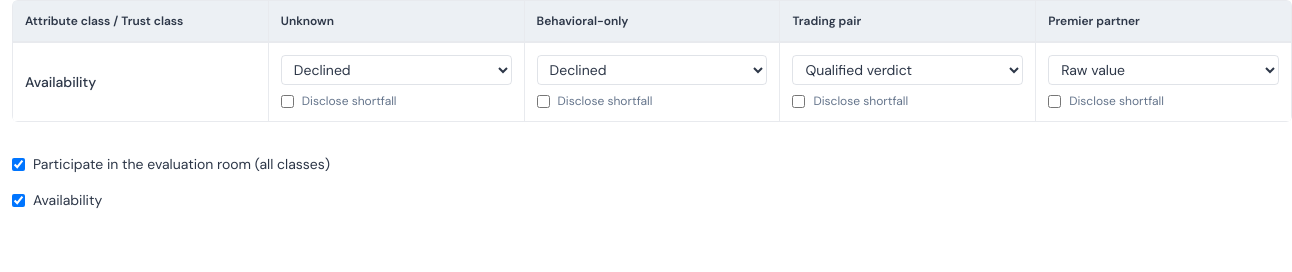
DisclosurePolicyClient › shows an alert and keeps the prior cell when the matrix PUT response body cannot be parsed
Step 1. Select "Raw value" in the dropdown named "availability disclosure for trading_pair" → (908, 70), box [792, 55, 1023, 85]
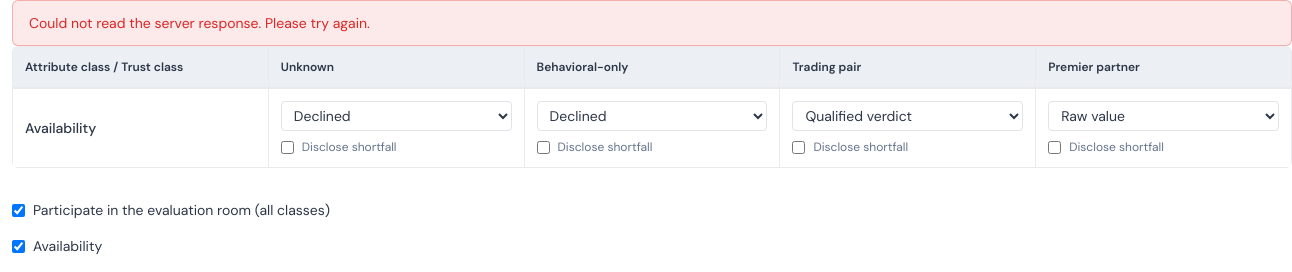
Check: the message "Could not read the server response. Please try again." is shown, box [12, 0, 1291, 46]
